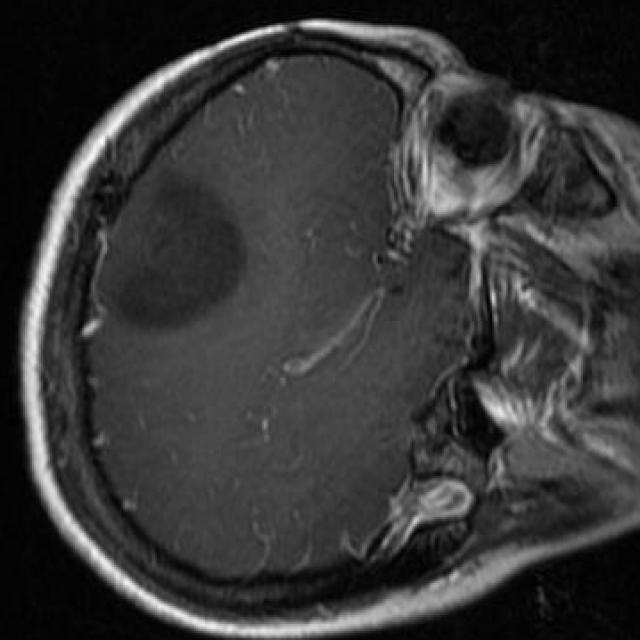glioma: (98, 171, 248, 330)
